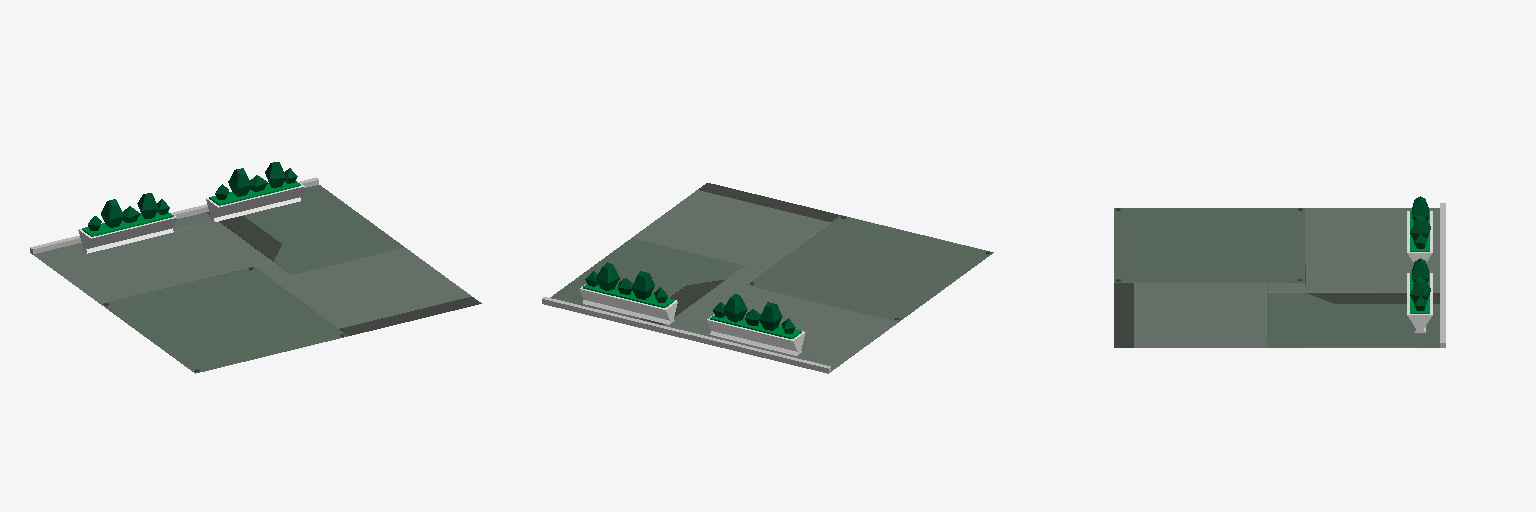
3 renders of one model, left to right at view 1: azimuth 30°, elevation 25°; view 2: azimuth 150°, elevation 25°; view 3: azimuth 270°, elevation 25°, orthographic.
Visible parts, largest first — view 1: Scifi_Panel_04_Plaza014_group4.024, base_pot.012, base_pot.013, Cube.927_Cube.1051; view 2: Scifi_Panel_04_Plaza014_group4.024, base_pot.012, base_pot.013, Cube.927_Cube.1051; view 3: Scifi_Panel_04_Plaza014_group4.024, base_pot.013, base_pot.012, Cube.927_Cube.1051.
Part boxes in pixels (x1,y1,x2,y2): Scifi_Panel_04_Plaza014_group4.024: (33, 185, 481, 373); base_pot.012: (78, 193, 176, 253); base_pot.013: (206, 162, 304, 221); Cube.927_Cube.1051: (30, 177, 318, 254); Scifi_Panel_04_Plaza014_group4.024: (550, 183, 993, 371); base_pot.012: (707, 294, 805, 355); base_pot.013: (579, 262, 677, 324); Cube.927_Cube.1051: (542, 297, 830, 373); Scifi_Panel_04_Plaza014_group4.024: (1114, 208, 1439, 347); base_pot.013: (1407, 258, 1432, 332); base_pot.012: (1407, 196, 1432, 262); Cube.927_Cube.1051: (1440, 203, 1445, 347).
Bounding box in the file's own units: 10 × 1.51 × 10.